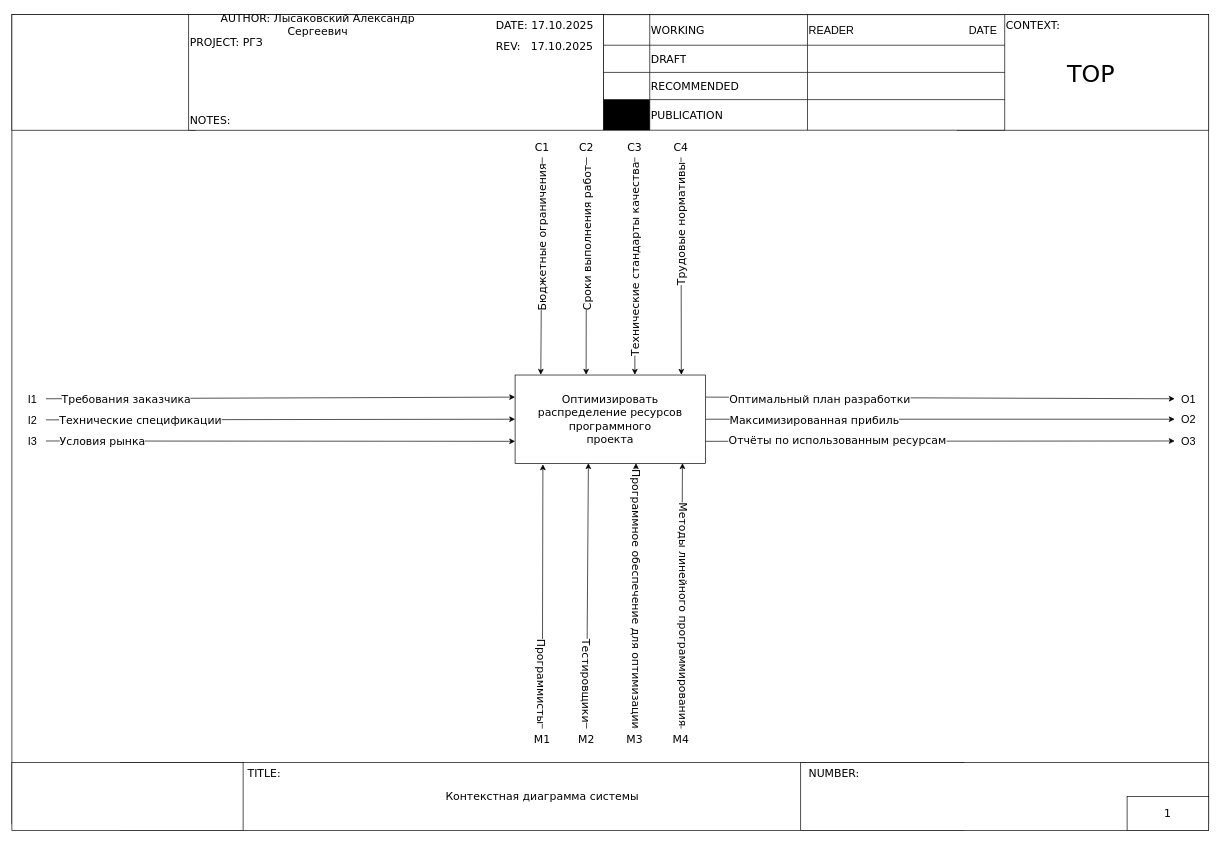
Image size: 1221x843. Some labels were removed from this diagram. Here are the shapes that lost their labels. From the top down, the centre of each, then its label:
the point at 103,72: USED AT: РГЗ ИКИТ 2025
the point at 127,796: NODE:
